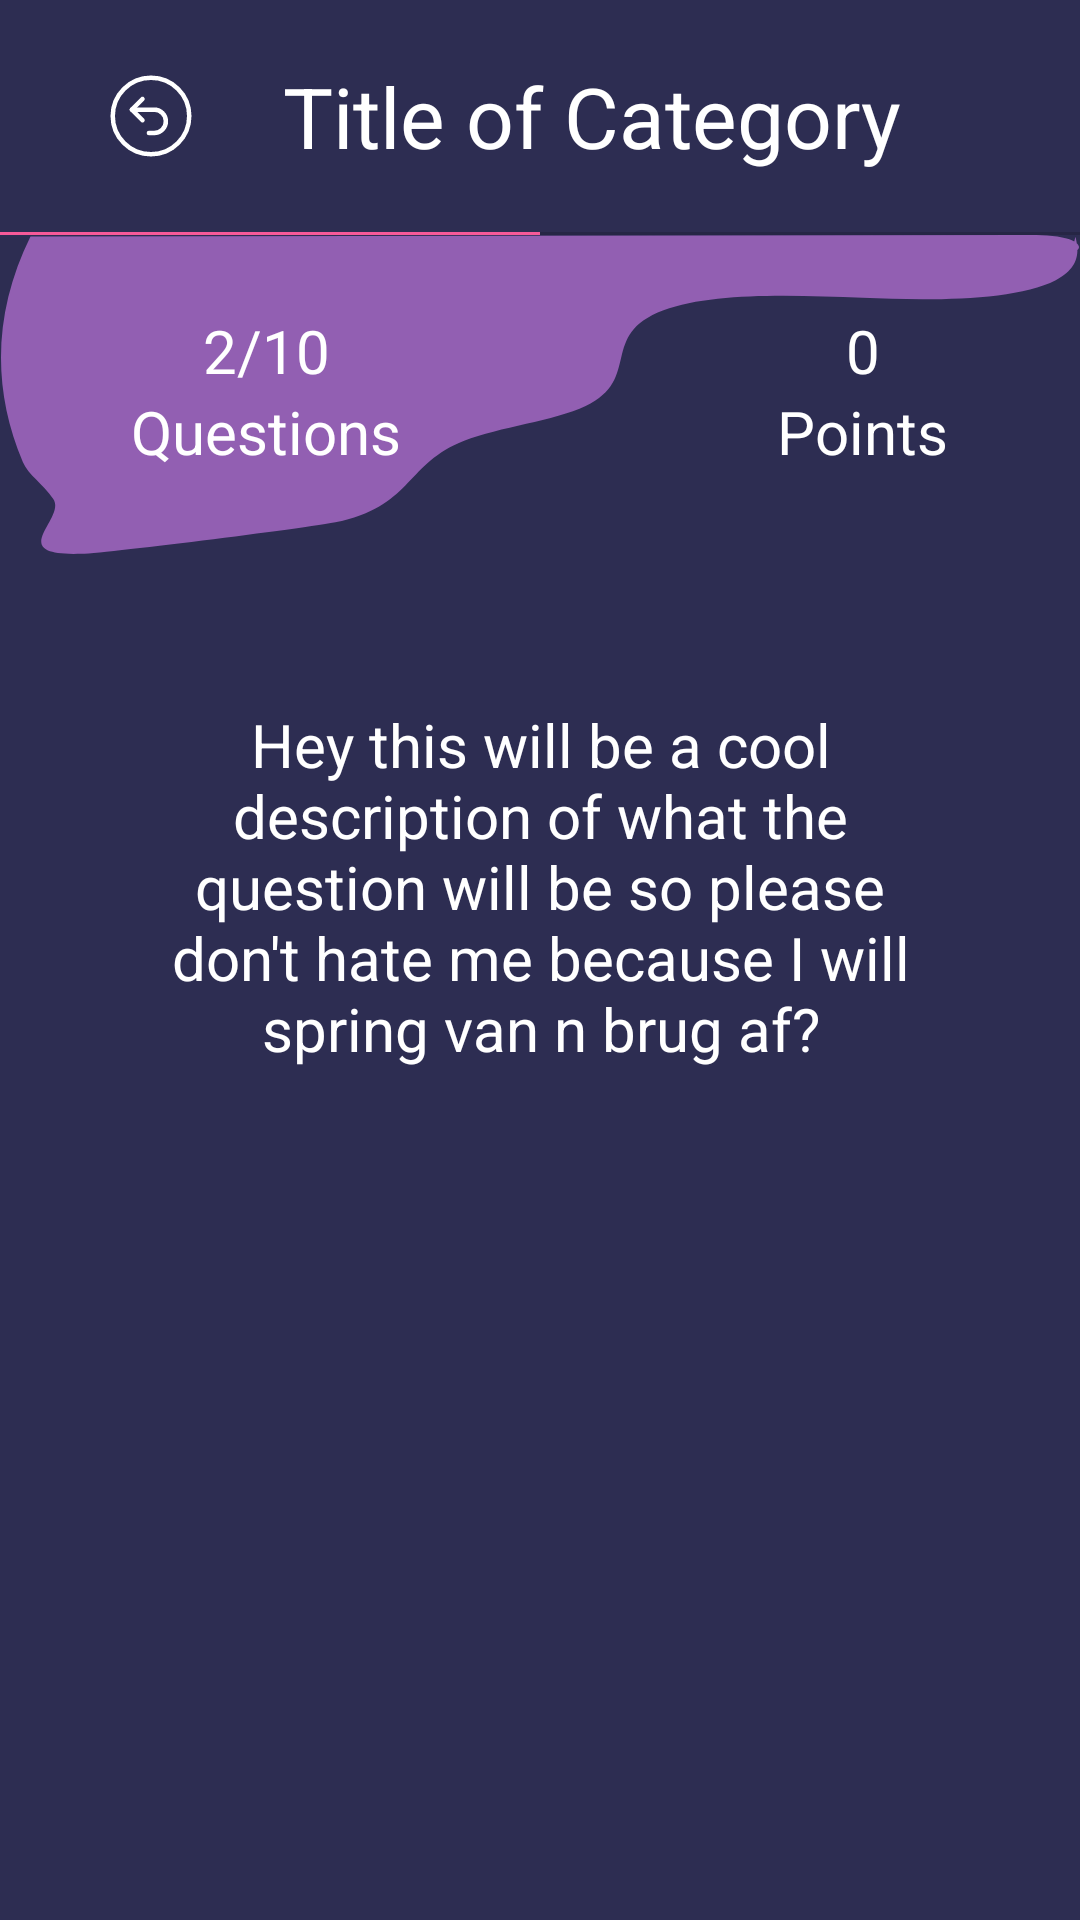

Point at icon controls on the screen. Image size 1080*1920, points as (x,y).
back: (151,116)
